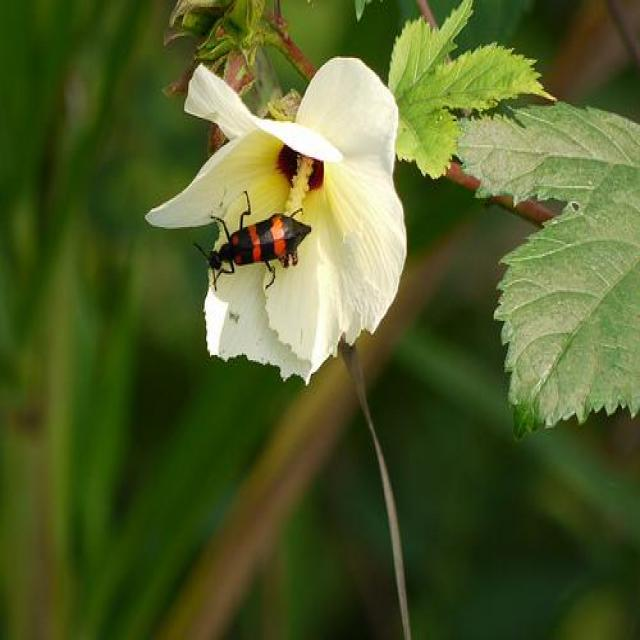BlisterBeetle-Adult-: (198, 187, 326, 294)
